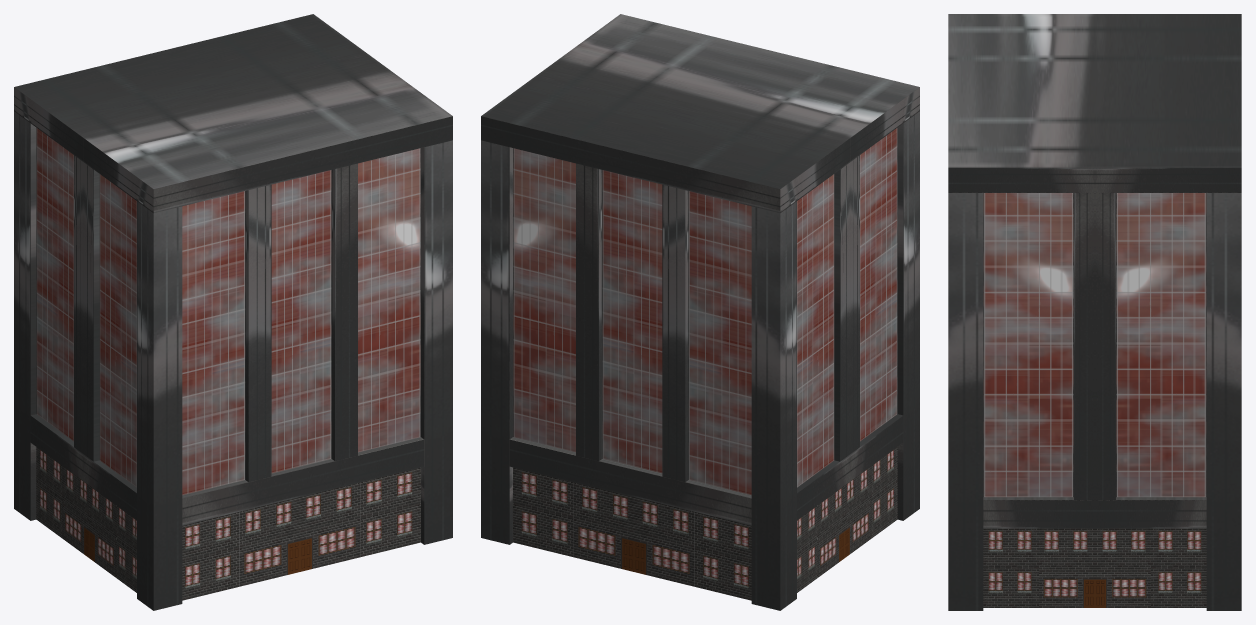
Rendered from Building - 3.obj.
3 renders of one model, left to right at view 1: azimuth 30°, elevation 25°; view 2: azimuth 150°, elevation 25°; view 3: azimuth 270°, elevation 25°, orthographic. The views are drawn at different scales.
Visible parts, largest first — view 1: Box01; view 2: Box01; view 3: Box01.
Boxes of the visible parts, x1,y1,x2,y2 form: Box01: (14, 14, 452, 610); Box01: (481, 14, 919, 610); Box01: (948, 14, 1241, 610).
Size of the model in its own units: 26 by 35 by 21.
